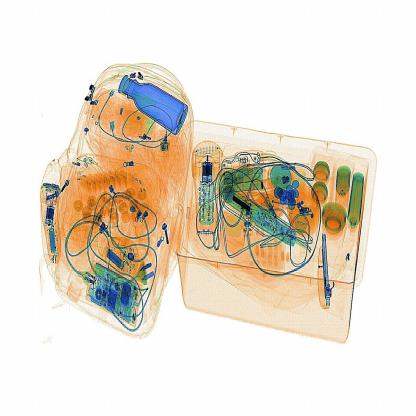pliers: (318, 233, 335, 313)
